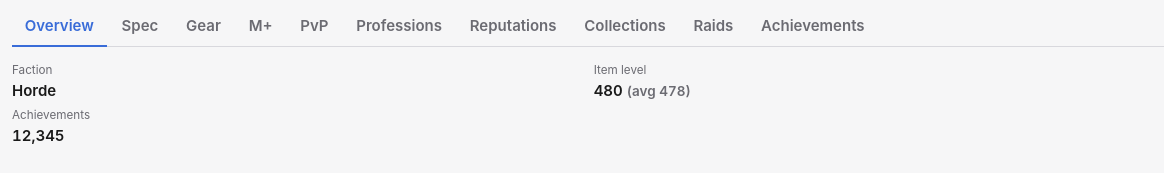
Test case: CharacterDetail › lazily fetches professions only when the Professions tab is selected
Step 1. Click the tab "Professions" → (399,27), box top-left (344, 8), bottom-right (455, 47)
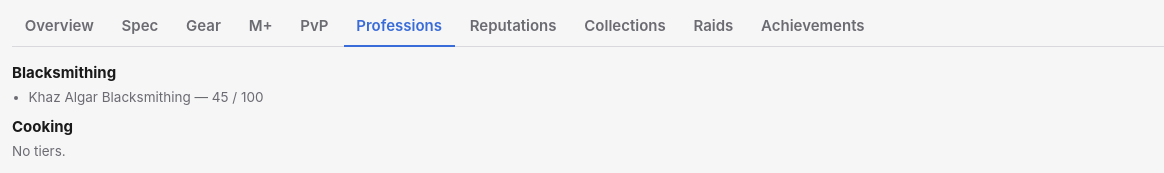
Now the heading "Blacksmithing" is shown, box top-left (12, 63), bottom-right (116, 82)
Now the list item "Khaz Algar Blacksmithing — 45 / 100" is shown, box top-left (28, 89), bottom-right (264, 105)
Now the heading "Cooking" is shown, box top-left (12, 117), bottom-right (73, 136)
